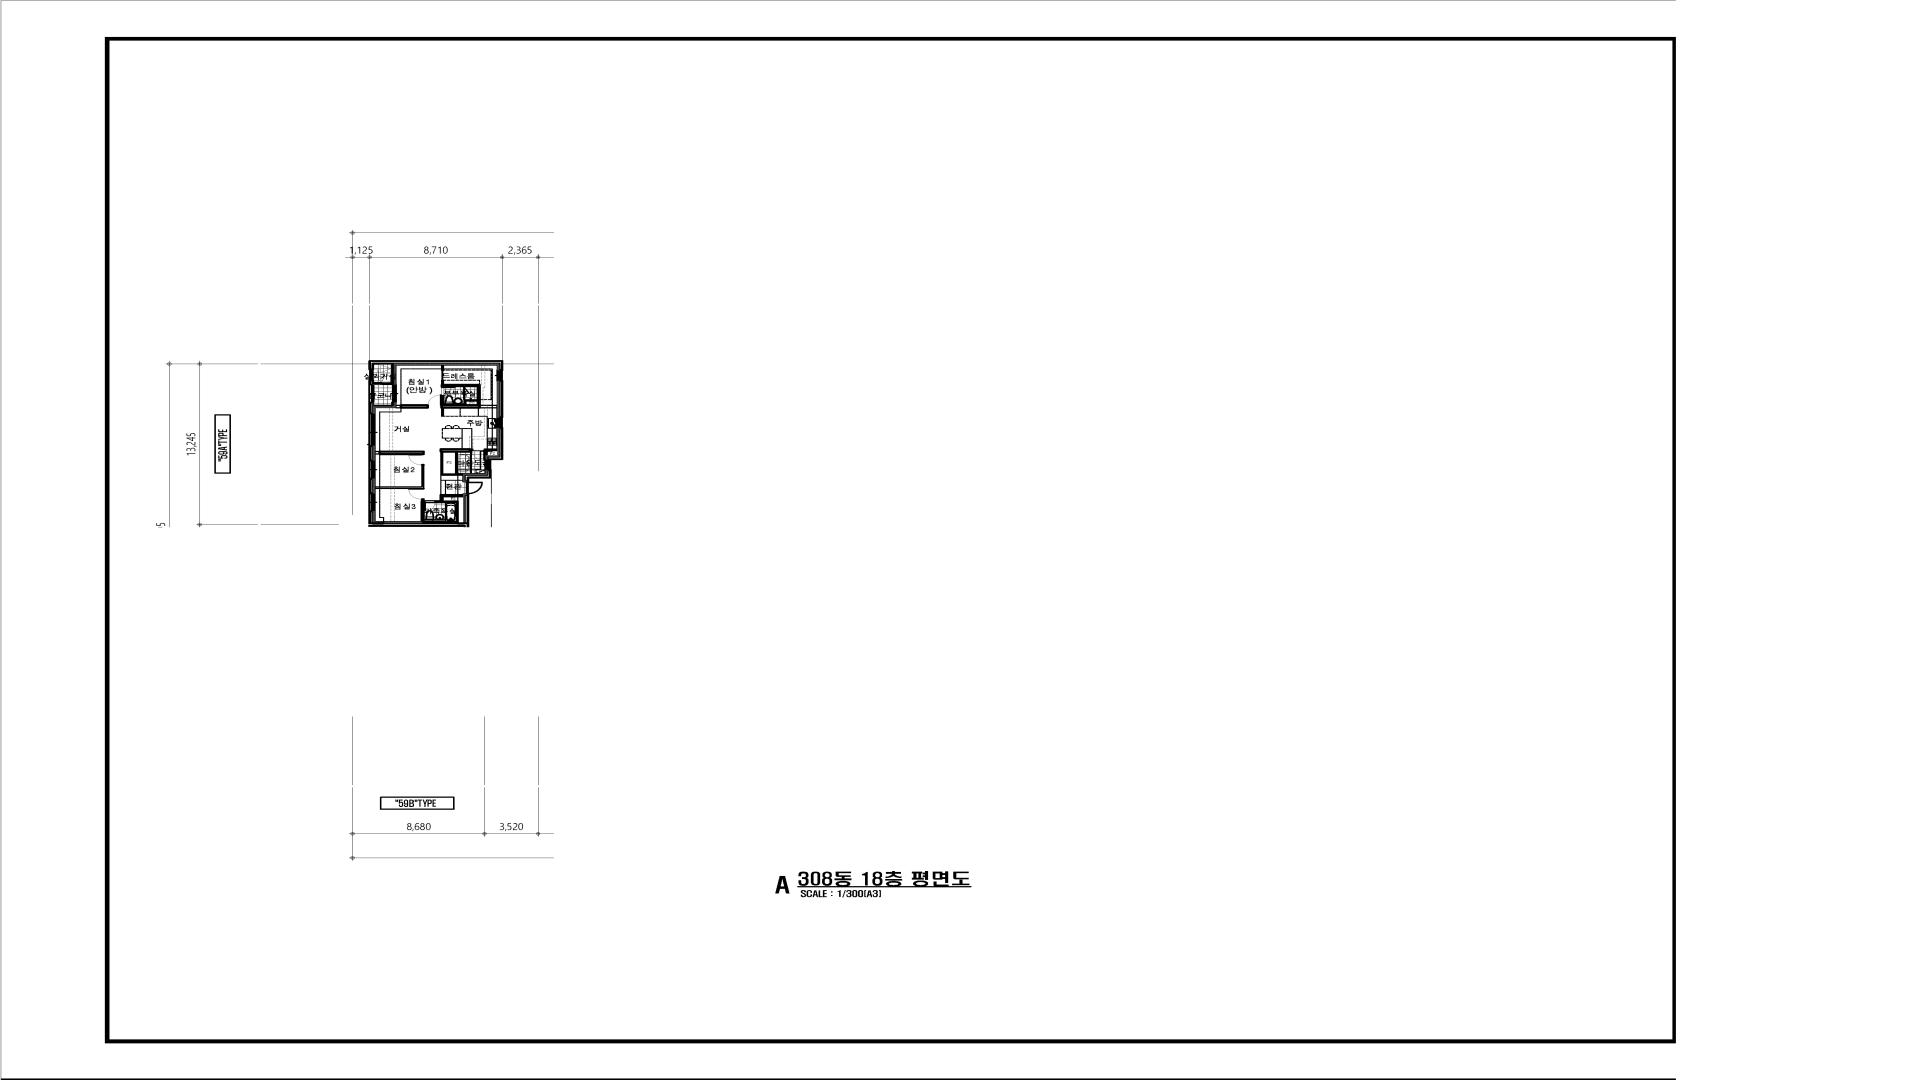door: (427, 394, 442, 409), (465, 481, 483, 493), (409, 489, 425, 500), (409, 455, 425, 465), (472, 450, 484, 460), (425, 500, 435, 512), (381, 375, 392, 385), (442, 388, 455, 396), (463, 388, 469, 394), (442, 371, 443, 380)
wall: (368, 493, 469, 527), (368, 360, 504, 385), (440, 381, 504, 418), (368, 380, 427, 414), (368, 465, 425, 493), (440, 380, 481, 405), (368, 446, 425, 460), (440, 448, 472, 473), (435, 495, 463, 521), (440, 469, 492, 481), (485, 427, 504, 460), (484, 448, 497, 460)
window: (368, 414, 376, 446), (368, 460, 376, 479), (368, 493, 376, 510), (392, 385, 397, 402), (496, 371, 502, 381), (496, 418, 502, 429), (485, 460, 492, 469), (369, 371, 373, 380)
